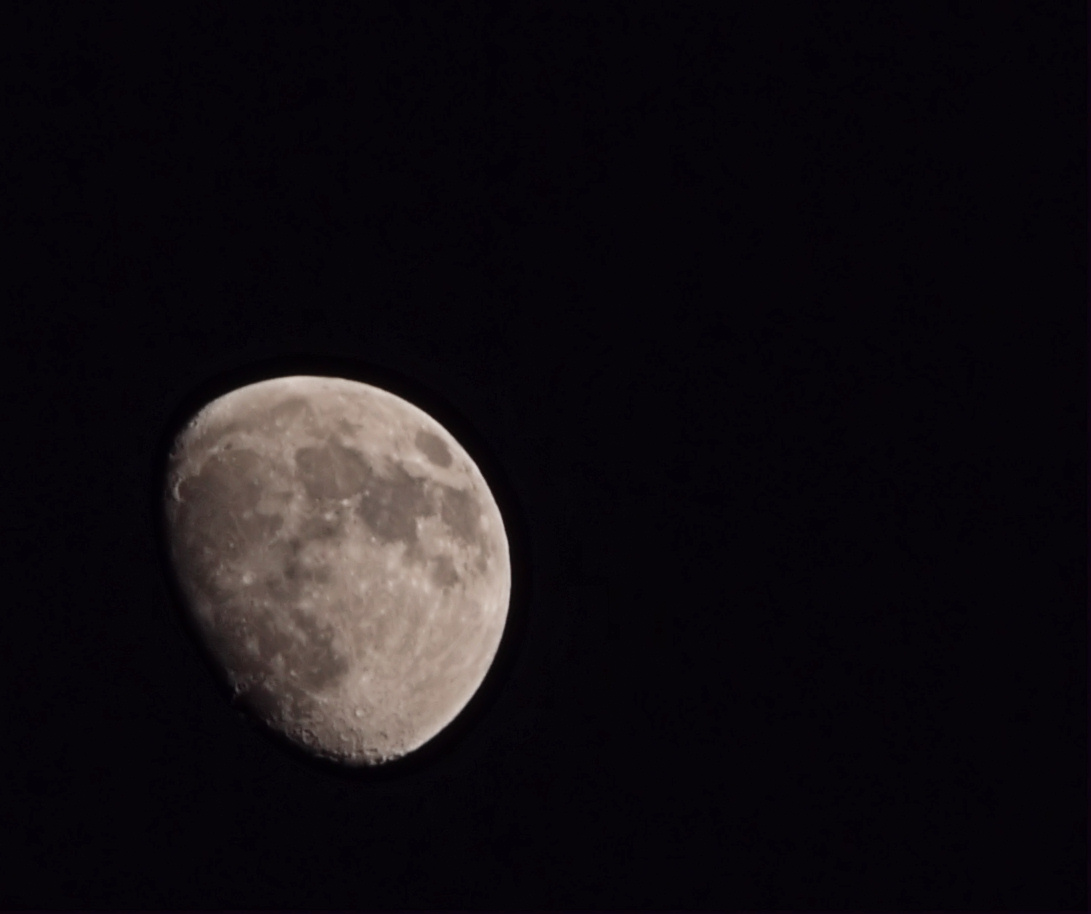crater: (350, 698, 378, 726), (234, 559, 260, 588), (478, 506, 493, 537), (360, 529, 380, 548), (232, 679, 251, 697), (286, 666, 303, 682), (338, 493, 353, 511)
